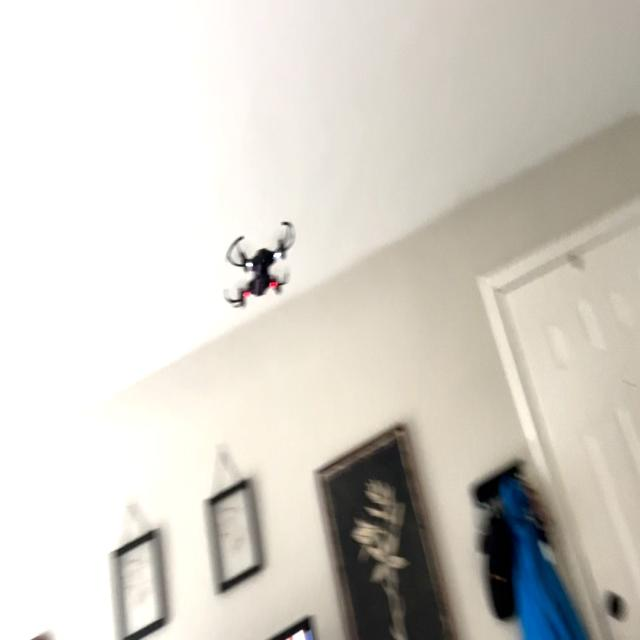drone: (212, 209, 304, 319)
